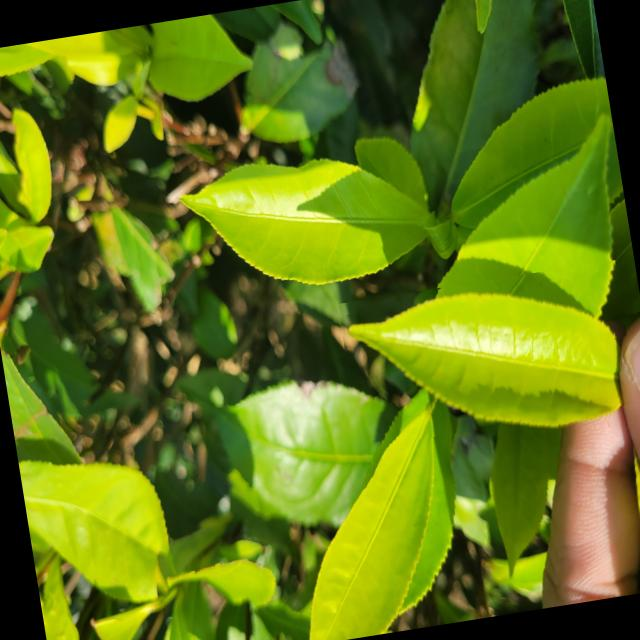Catagory A(1-2 days): (333, 259, 640, 466)
